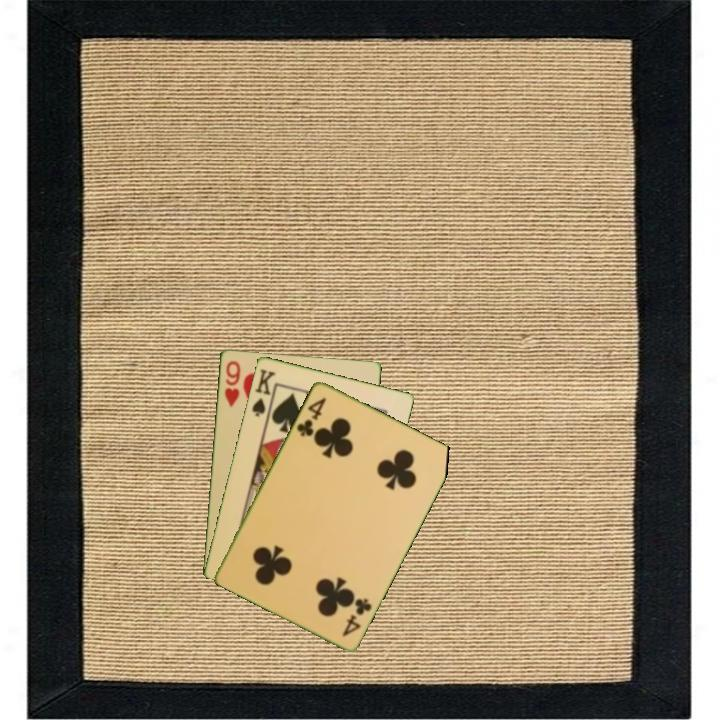4c: (293, 393, 329, 440), (338, 594, 374, 639)
9h: (220, 357, 243, 410)
Ks: (248, 365, 278, 421)
